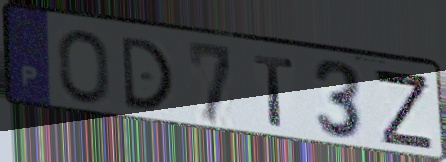3: (312, 58, 367, 143)
7: (186, 38, 235, 127)
D: (118, 34, 176, 112)
O: (55, 27, 114, 108)
T: (251, 51, 297, 131)
Z: (371, 66, 436, 153)
